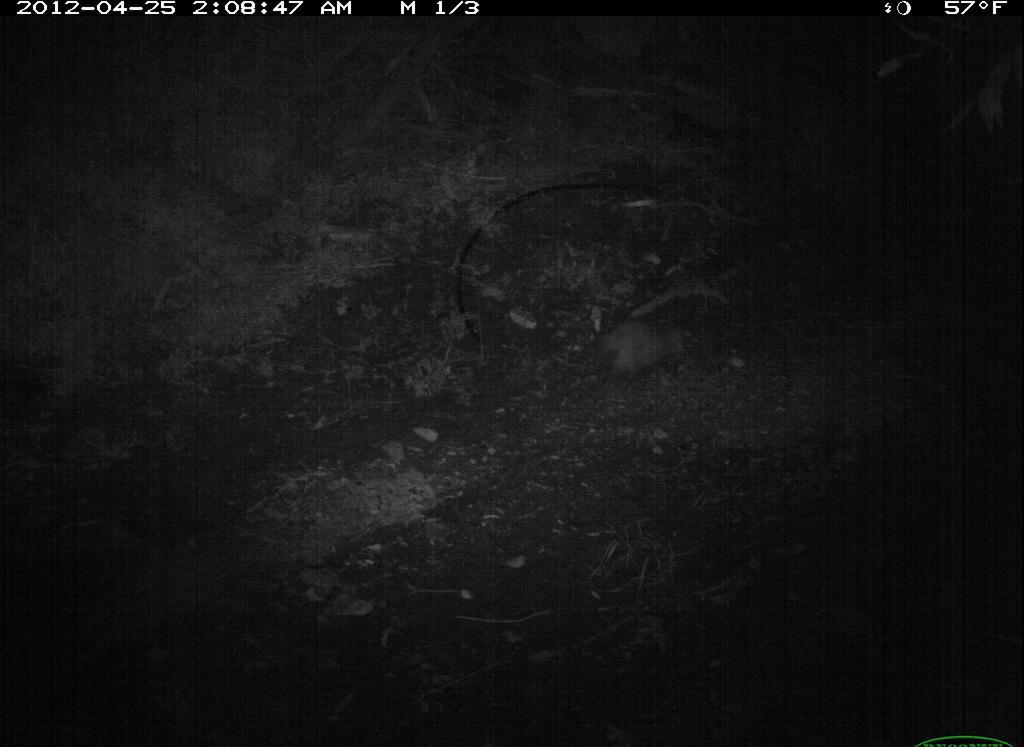opossum: (570, 292, 689, 405)
